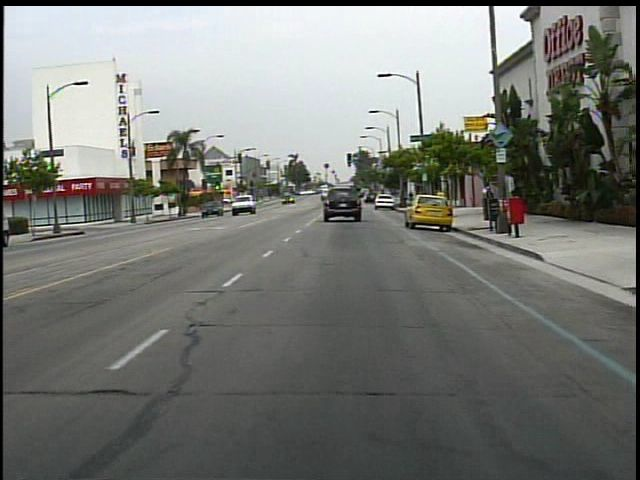person: (476, 180, 498, 220)
